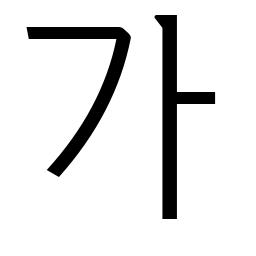Gaji: (147, 79, 196, 124)
